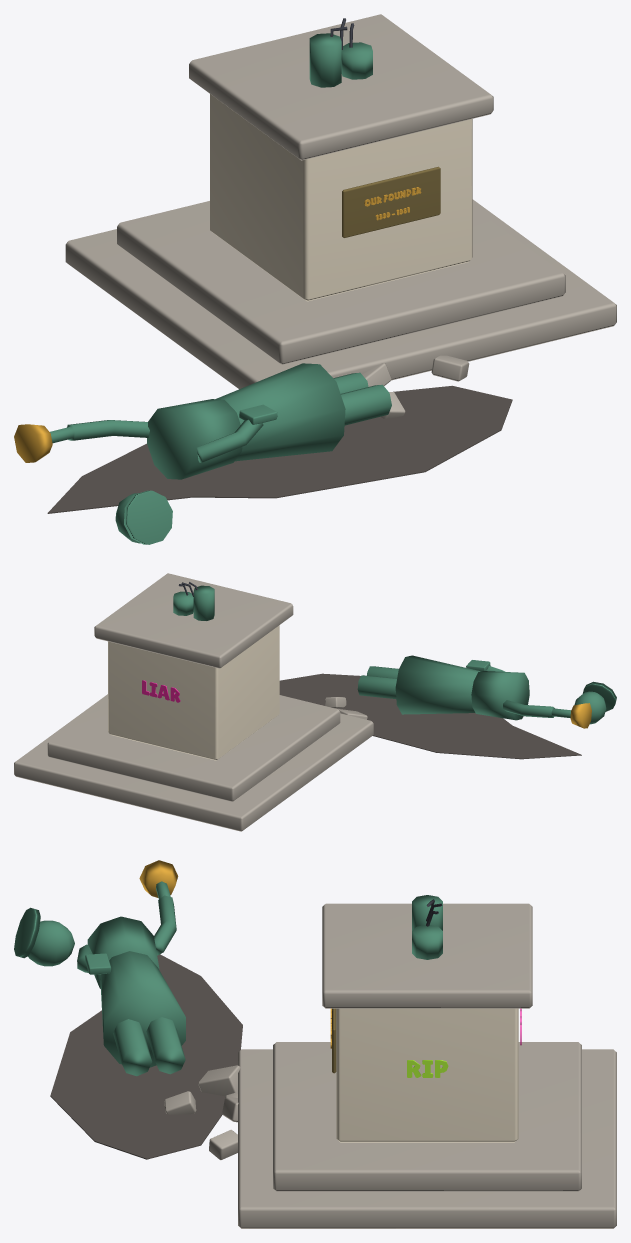
The model's file is city_statue_toppled.glb.
The picture shows the model from 3 angles, top to bottom: view 1: azimuth 30°, elevation 25°; view 2: azimuth 150°, elevation 25°; view 3: azimuth 270°, elevation 25°; orthographic projection. The views are drawn at different scales.
Visible parts, largest first — view 1: Statue; view 2: Statue; view 3: Statue.
Boxes of the visible parts, x1,y1,x2,y2 form: Statue: [14, 14, 616, 544]; Statue: [14, 573, 616, 831]; Statue: [14, 860, 616, 1228].
Size of the model in its own units: 9.77 by 4.08 by 8.59.
